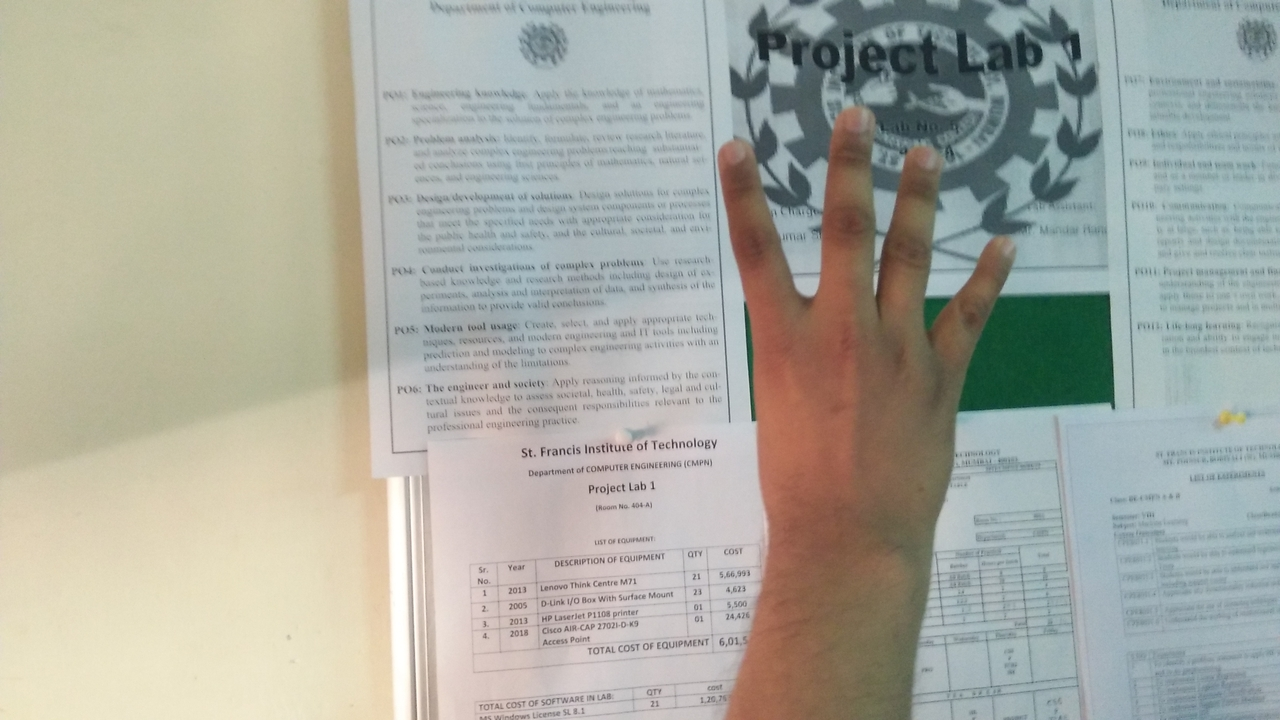fingertip: (972, 222, 1032, 276), (826, 102, 886, 156), (708, 130, 764, 182), (896, 138, 952, 184)
